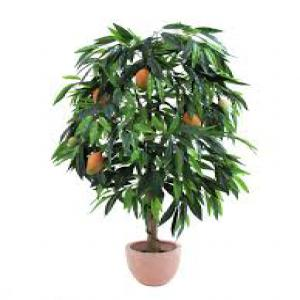Tree: (48, 19, 255, 287)
